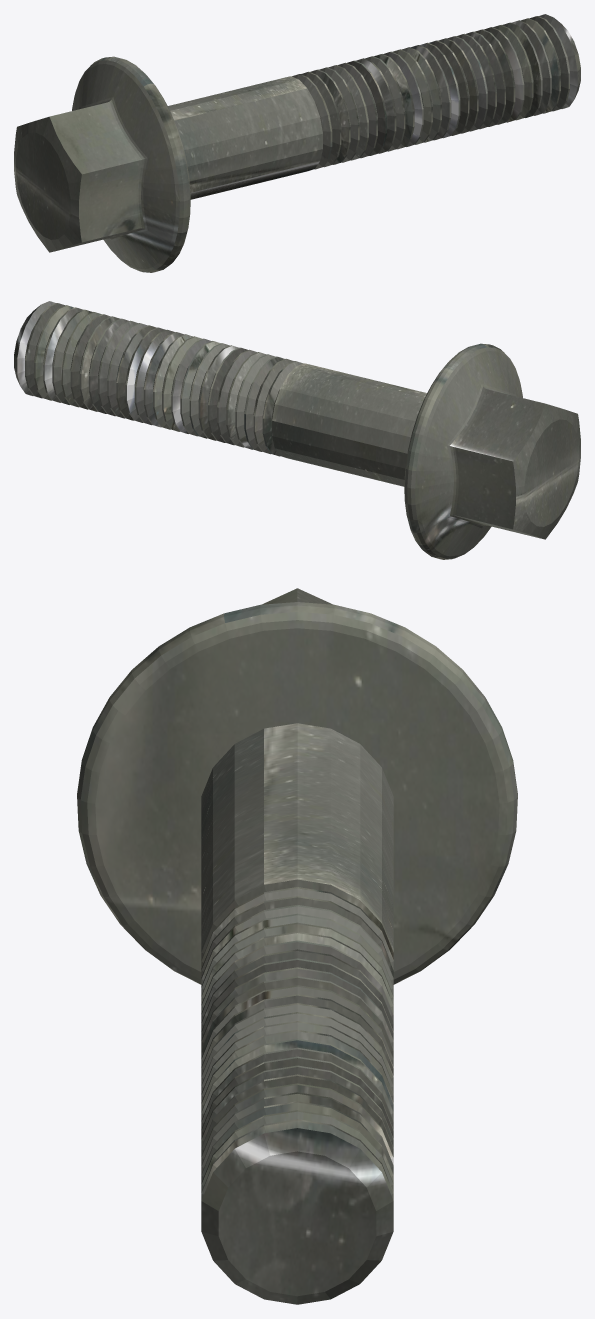
Rendered from v_battery_bolt_Link.dae.
The picture shows the model from 3 angles, top to bottom: view 1: azimuth 30°, elevation 25°; view 2: azimuth 150°, elevation 25°; view 3: azimuth 270°, elevation 25°; orthographic projection. The views are drawn at different scales.
Parts seen in each view (by area): view 1: v_battery_bolt_Link; view 2: v_battery_bolt_Link; view 3: v_battery_bolt_Link.
Part boxes in pixels (x1,y1,x2,y2): v_battery_bolt_Link: [14, 14, 580, 272]; v_battery_bolt_Link: [14, 301, 580, 559]; v_battery_bolt_Link: [77, 588, 517, 1304].
Bounding box in the file's own units: 0.0368 × 0.0136 × 0.0135.
1 material, 1 textured.
